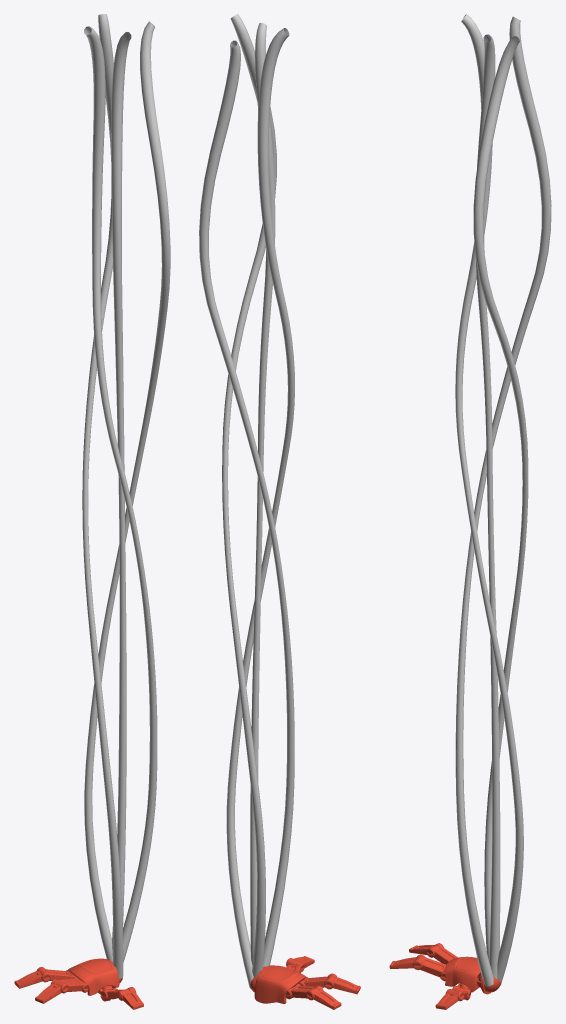
Rendered from DeadliftJustArm.fbx.
3 renders of one model, left to right at view 1: azimuth 30°, elevation 25°; view 2: azimuth 150°, elevation 25°; view 3: azimuth 330°, elevation 25°, orthographic.
Visible parts, largest first — view 1: NurbsPath.007, NurbsPath.002, NurbsPath.005, NurbsPath.006, Circle.001; view 2: NurbsPath.006, NurbsPath.007, NurbsPath.002, NurbsPath.005, Circle.001; view 3: NurbsPath.006, NurbsPath.002, NurbsPath.007, NurbsPath.005, Circle.001.
Part boxes in pixels (box(x1,y1,x2,y2)): NurbsPath.007: box(84, 26, 157, 962); NurbsPath.002: box(84, 21, 170, 961); NurbsPath.005: box(111, 32, 131, 955); NurbsPath.006: box(82, 14, 123, 979); Circle.001: box(14, 958, 143, 1009); NurbsPath.006: box(199, 40, 294, 967); NurbsPath.007: box(226, 28, 294, 988); NurbsPath.002: box(222, 14, 276, 977); NurbsPath.005: box(250, 23, 275, 965); Circle.001: box(250, 956, 360, 1009); NurbsPath.006: box(455, 16, 551, 986); NurbsPath.002: box(473, 36, 528, 960); NurbsPath.007: box(455, 14, 523, 985); NurbsPath.005: box(475, 34, 500, 978); Circle.001: box(389, 943, 500, 1009).
Bounding box in the file's own units: 1.19 × 8.77 × 1.09.
